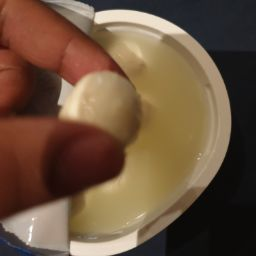Mini Mozzarella Cheese: (56, 68, 158, 151)
